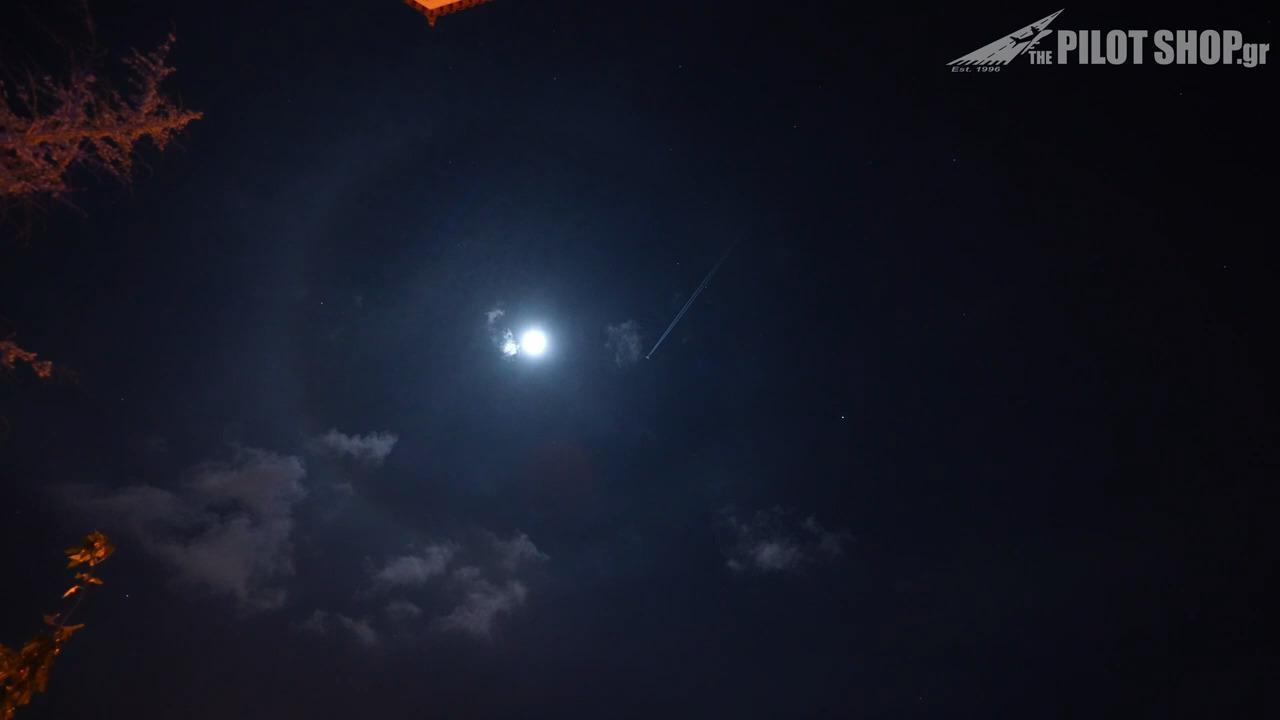Plane: (614, 246, 773, 370)
